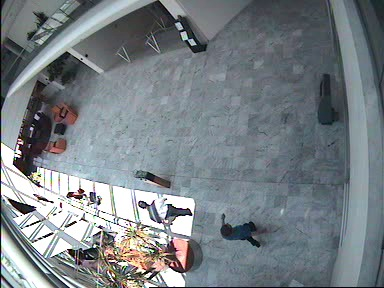person: (138, 197, 192, 224), (220, 212, 260, 248), (66, 188, 101, 205)
